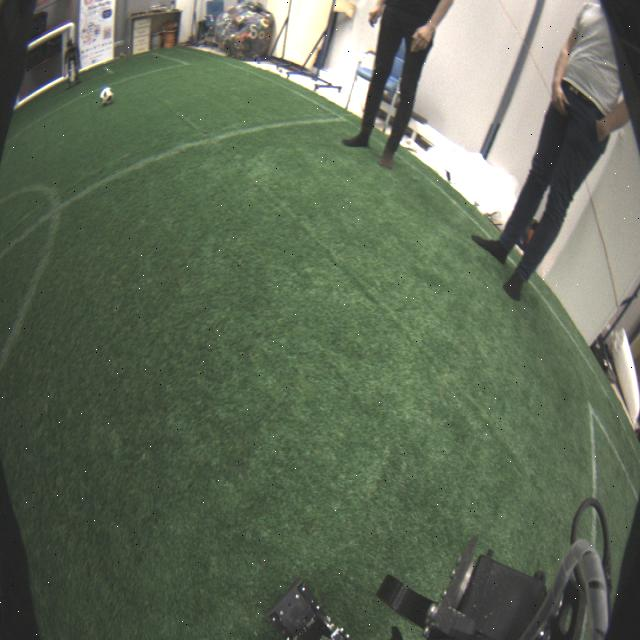ball: (101, 86, 114, 106)
goalpost: (66, 22, 78, 82)
